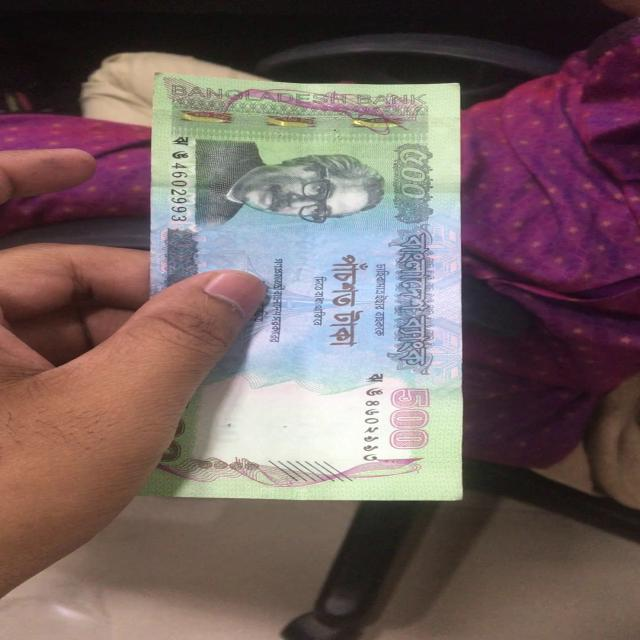Taka: (158, 73, 458, 497)
